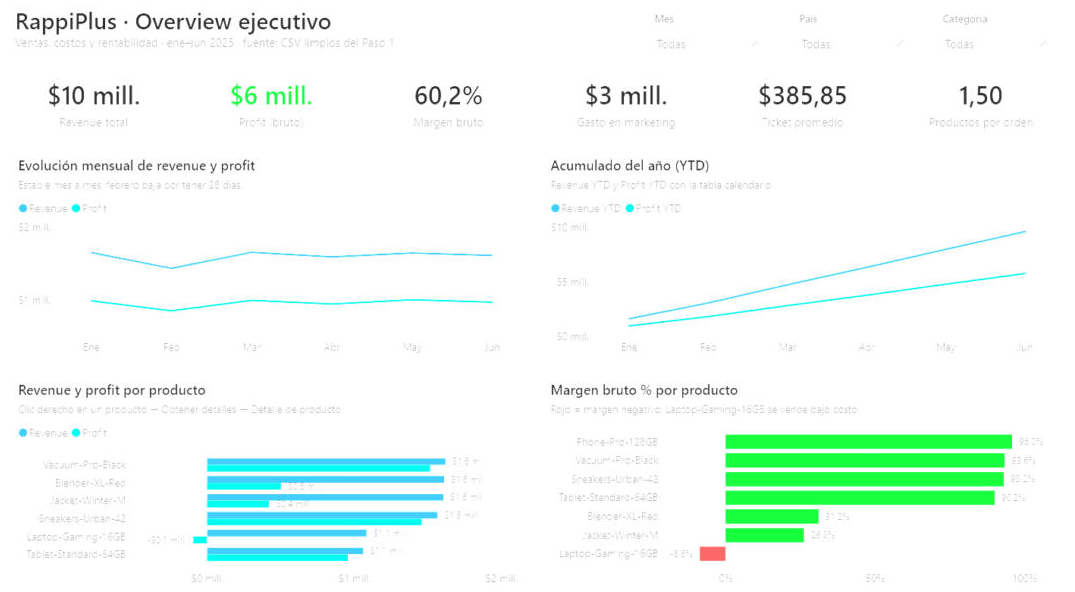

Layout of this report page (visuals, bound fields, positions):
{"tool":"powerbi","page":{"name":"Overview ejecutivo","canvas":[1280,720],"ordinal":0},"visuals":[{"type":"textbox","box":[24,10,720,62],"z":0},{"type":"slicer","fields":{"Values":["dim_fecha.Mes"]},"box":[760,14,159,58],"z":100},{"type":"slicer","fields":{"Values":["dim_pais.pais"]},"box":[929,14,159,58],"z":101},{"type":"slicer","fields":{"Values":["catalog.categoria_producto"]},"box":[1097,14,159,58],"z":102},{"type":"card","fields":{"Values":["orders.Revenue"]},"box":[24,84,195,92],"z":200},{"type":"card","fields":{"Values":["orders.Profit"]},"box":[231,84,195,92],"z":201},{"type":"card","fields":{"Values":["orders.Margen %"]},"box":[439,84,195,92],"z":202},{"type":"card","fields":{"Values":["marketing.Gasto Marketing"]},"box":[646,84,195,92],"z":203},{"type":"card","fields":{"Values":["orders.Ticket Promedio"]},"box":[853,84,195,92],"z":204},{"type":"card","fields":{"Values":["orders.Productos por Orden"]},"box":[1061,84,195,92],"z":205},{"type":"lineChart","title":"Evolución mensual de revenue y profit","fields":{"Category":["dim_fecha.Mes"],"Y":["orders.Revenue","orders.Profit"]},"box":[24,188,610,250],"z":300},{"type":"lineChart","title":"Acumulado del año (YTD)","fields":{"Category":["dim_fecha.Mes"],"Y":["orders.Revenue YTD","orders.Profit YTD"]},"box":[646,188,610,250],"z":301},{"type":"clusteredBarChart","title":"Revenue y profit por producto","fields":{"Category":["catalog.nombre_producto"],"Y":["orders.Revenue","orders.Profit"]},"box":[24,450,610,258],"z":302},{"type":"clusteredBarChart","title":"Margen bruto % por producto","fields":{"Category":["catalog.nombre_producto"],"Y":["orders.Margen %"]},"box":[646,450,610,258],"z":303}]}

Visuals, with their boxes in screenshot pixels (x1, y1, x2, y2), scaled from the page's 1280x720 canvas onto the 1075x592 screenshot:
textbox: x1=20, y1=8, x2=625, y2=59
slicer - dim_fecha.Mes: x1=638, y1=12, x2=772, y2=59
slicer - dim_pais.pais: x1=780, y1=12, x2=914, y2=59
slicer - catalog.categoria_producto: x1=921, y1=12, x2=1055, y2=59
card - orders.Revenue: x1=20, y1=69, x2=184, y2=145
card - orders.Profit: x1=194, y1=69, x2=358, y2=145
card - orders.Margen %: x1=369, y1=69, x2=532, y2=145
card - marketing.Gasto Marketing: x1=543, y1=69, x2=706, y2=145
card - orders.Ticket Promedio: x1=716, y1=69, x2=880, y2=145
card - orders.Productos por Orden: x1=891, y1=69, x2=1055, y2=145
"Evolución mensual de revenue y profit" lineChart: x1=20, y1=155, x2=532, y2=360
"Acumulado del año (YTD)" lineChart: x1=543, y1=155, x2=1055, y2=360
"Revenue y profit por producto" clusteredBarChart: x1=20, y1=370, x2=532, y2=582
"Margen bruto % por producto" clusteredBarChart: x1=543, y1=370, x2=1055, y2=582
